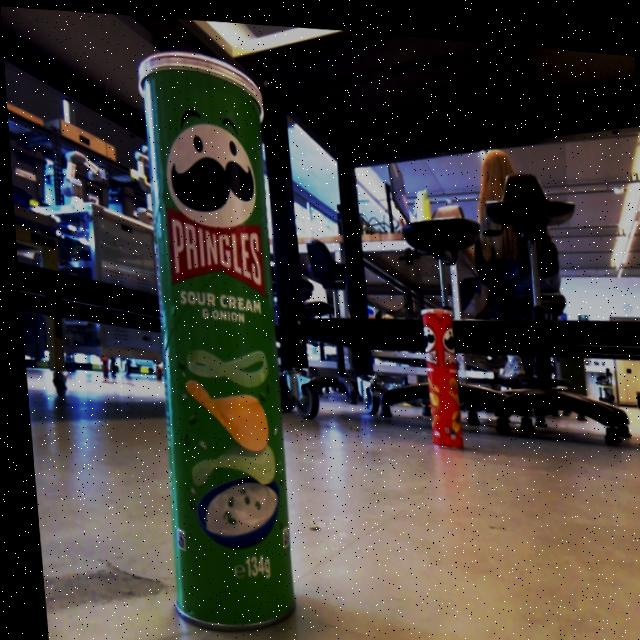greenpringles: (121, 30, 316, 640)
redpringles: (401, 290, 477, 454)
